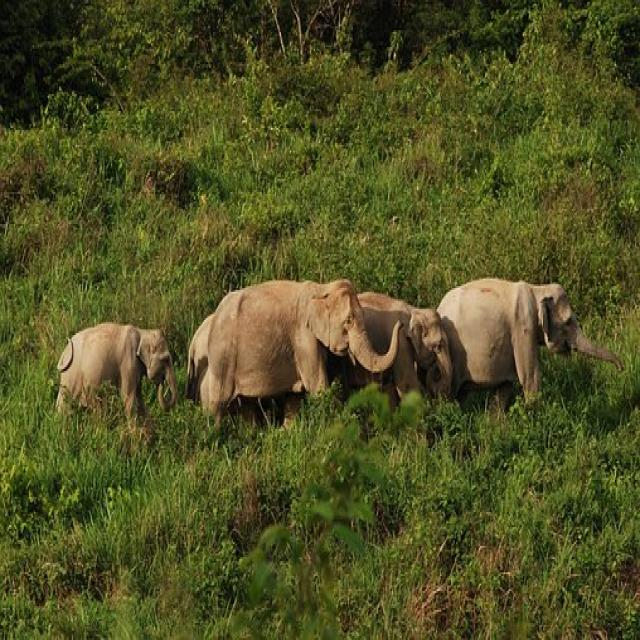Elephant: (193, 262, 385, 452), (430, 273, 627, 427), (38, 308, 189, 456), (358, 247, 456, 439)
